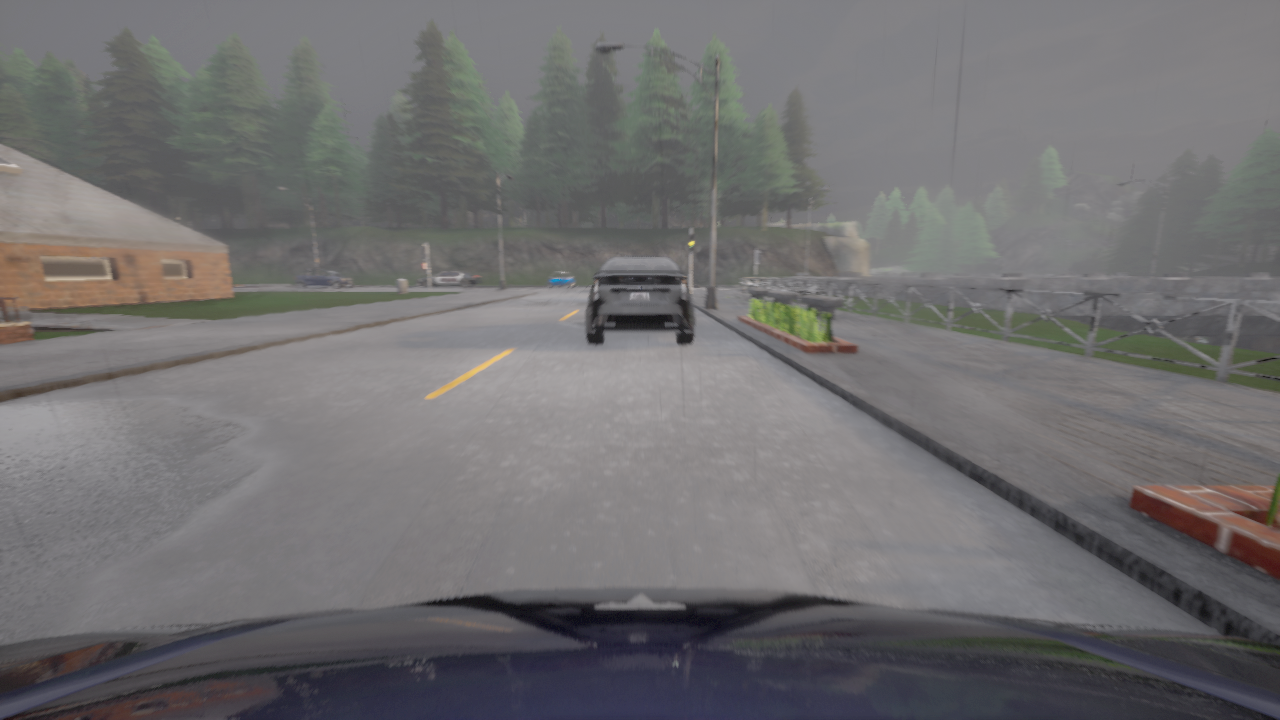cyclist: (0, 588, 1279, 719), (586, 256, 693, 344), (416, 269, 482, 288), (294, 269, 352, 288), (546, 272, 575, 288)
